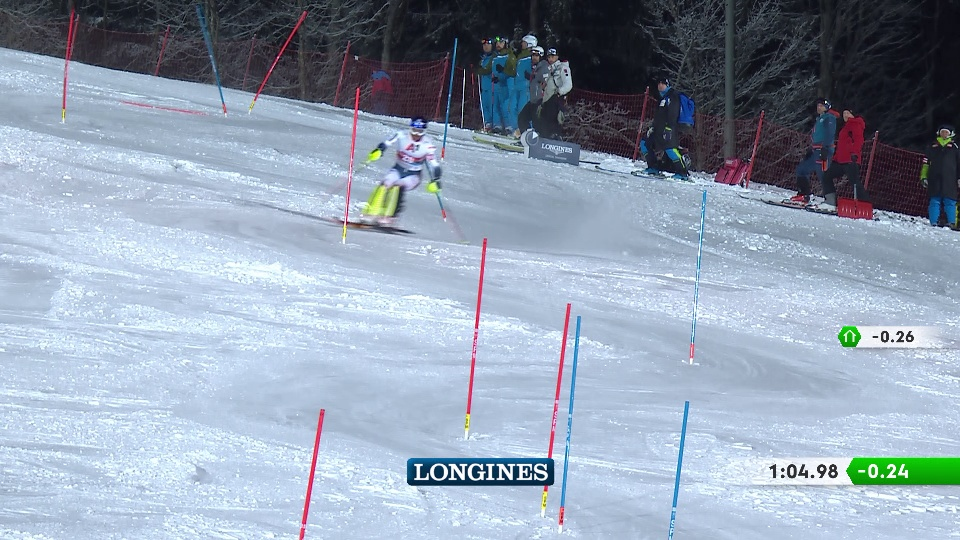a1: (403, 139, 424, 154)
longines: (411, 459, 558, 487), (538, 142, 577, 161)
